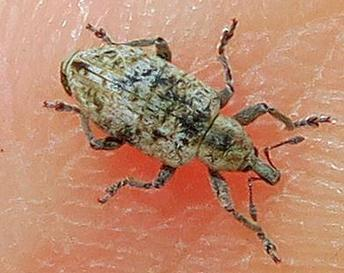weevils: (31, 7, 344, 273)
